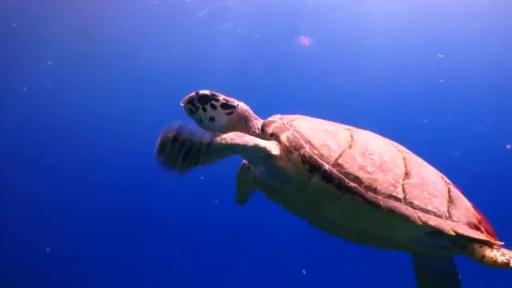Fish: (156, 91, 511, 287)
